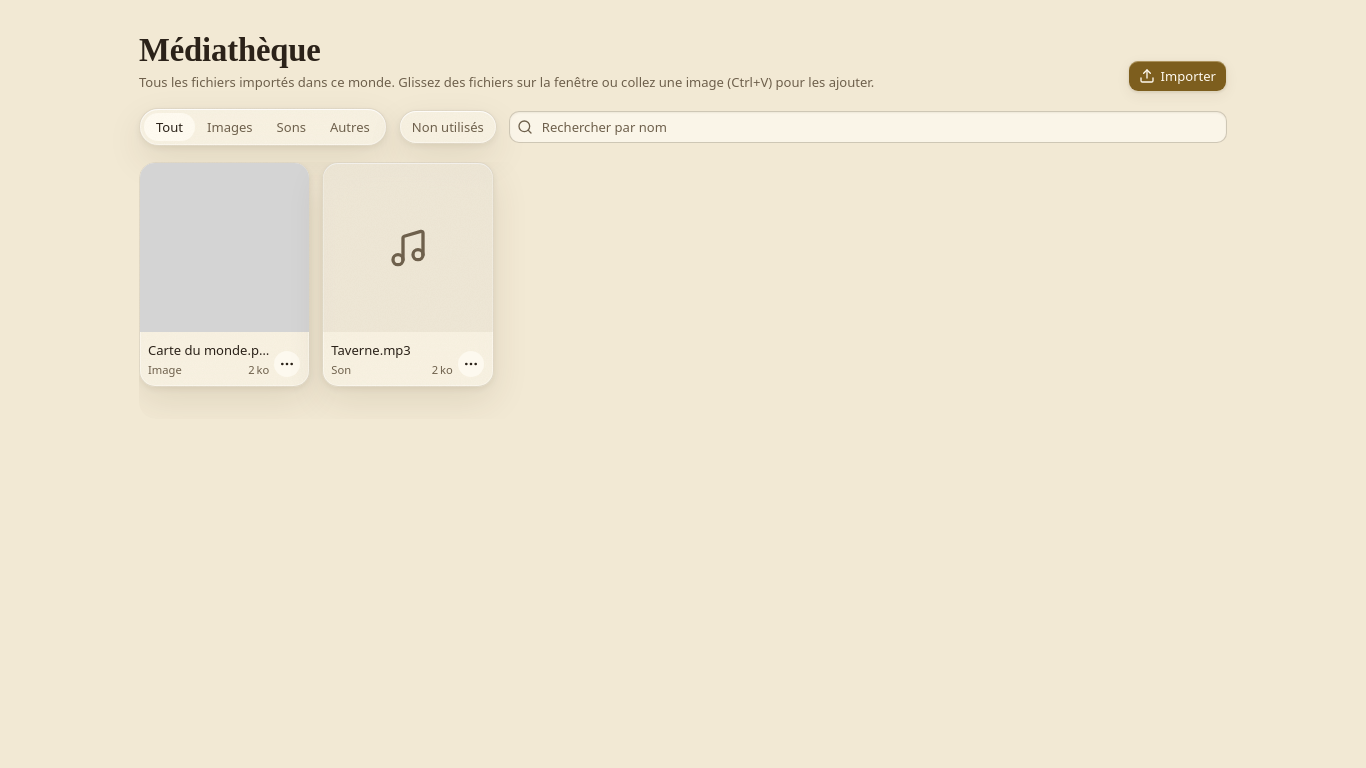
Test: renames an asset with F2 on its actions button
This screenshot has width=1366, height=768.
Press F2 in the button named "Actions pour Taverne.mp3", box [457, 350, 485, 378]
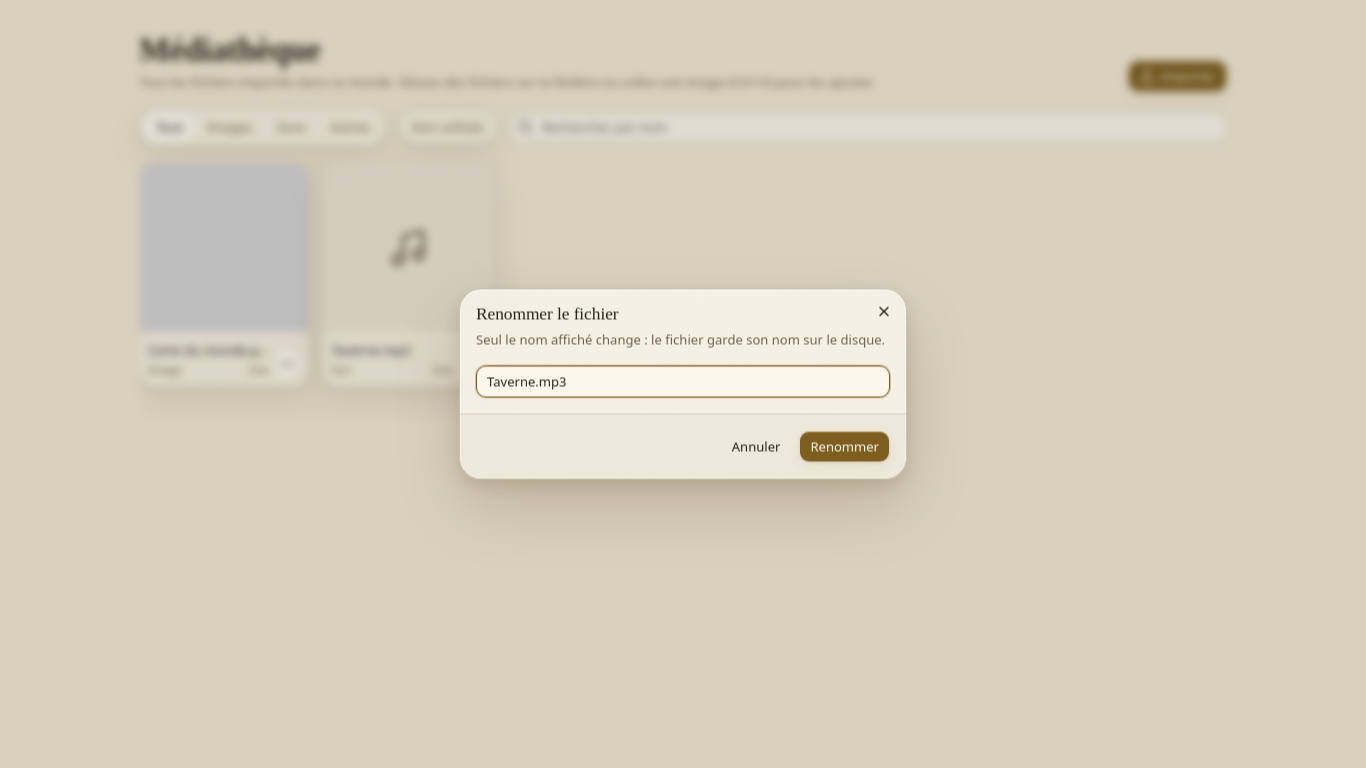
Replace the text in the field showing "Taverne.mp3" with "Auberge.mp3" at x=683, y=382, box [476, 366, 890, 398]
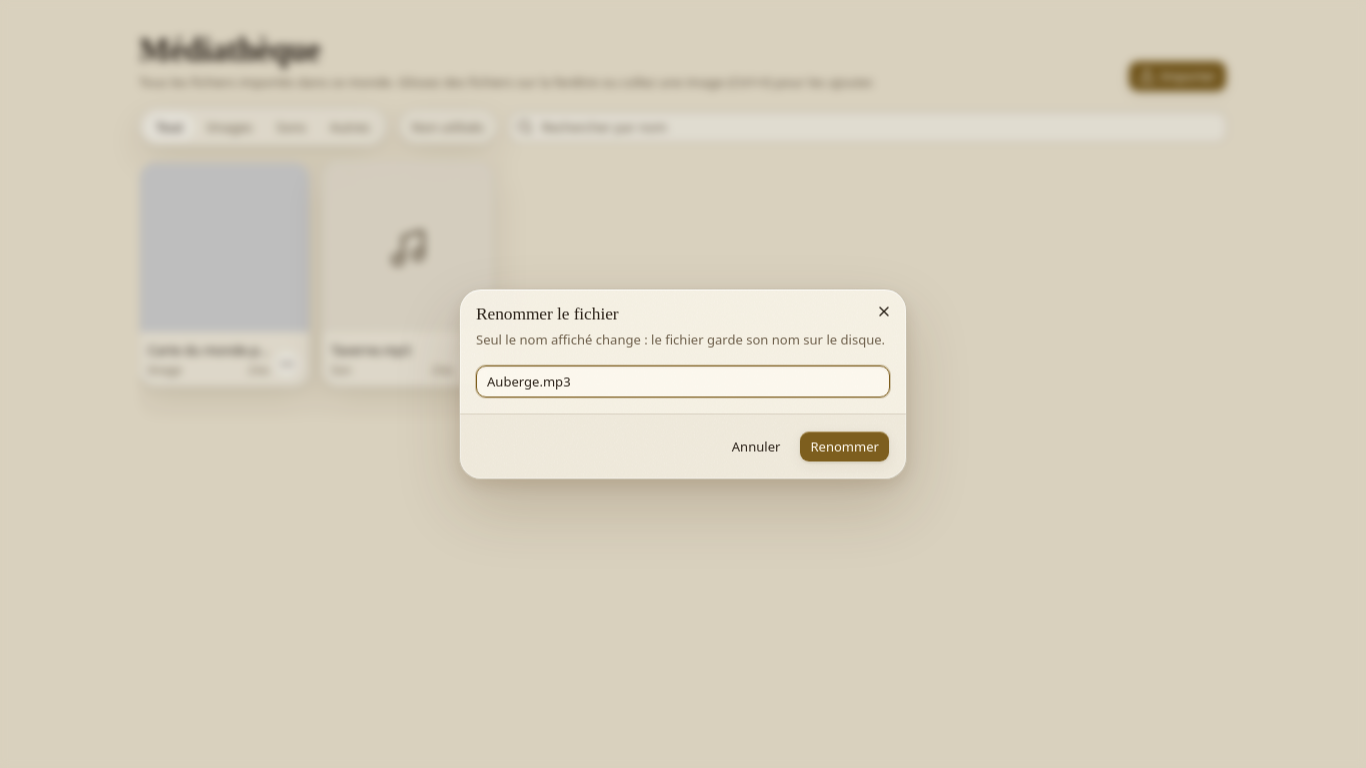
Submit the form from the field showing "Taverne.mp3", box [476, 366, 890, 398]
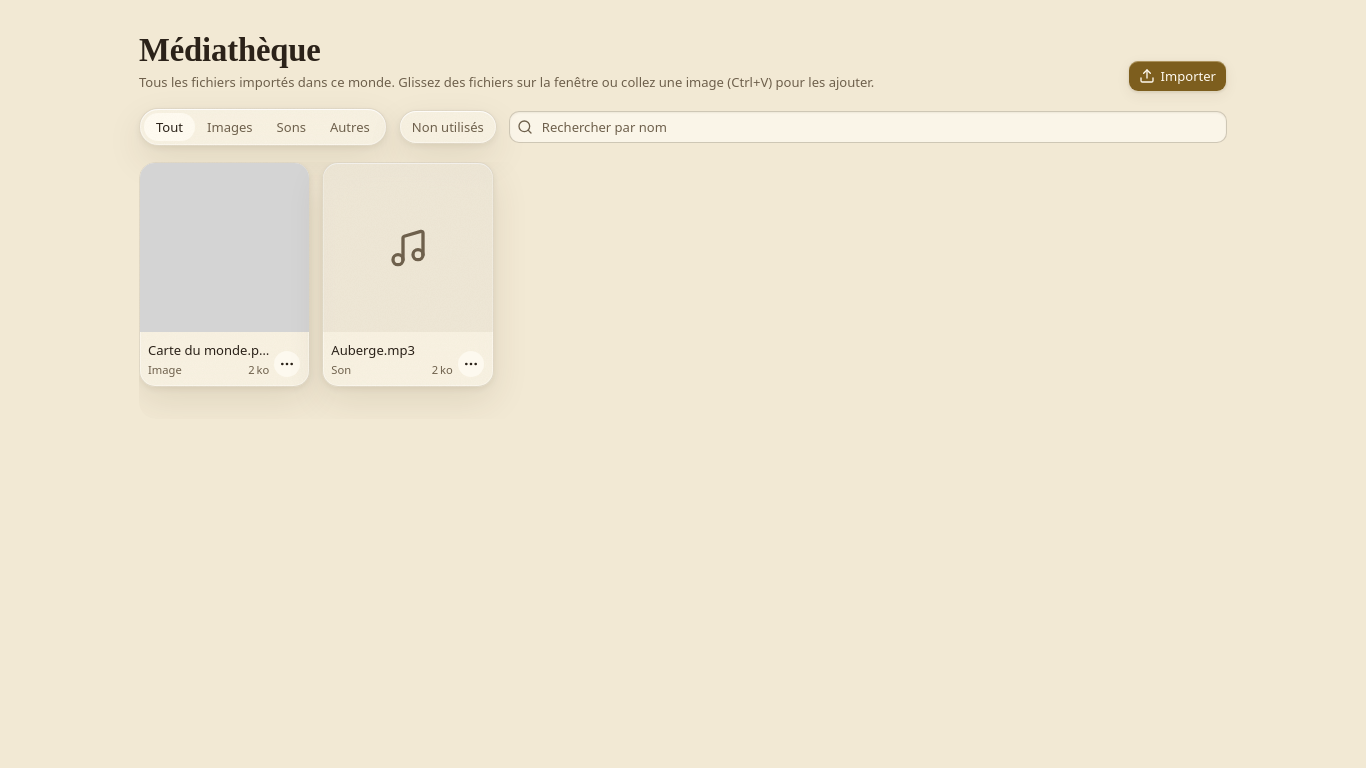
Now the text "Auberge.mp3" is shown, box [331, 341, 415, 359]
